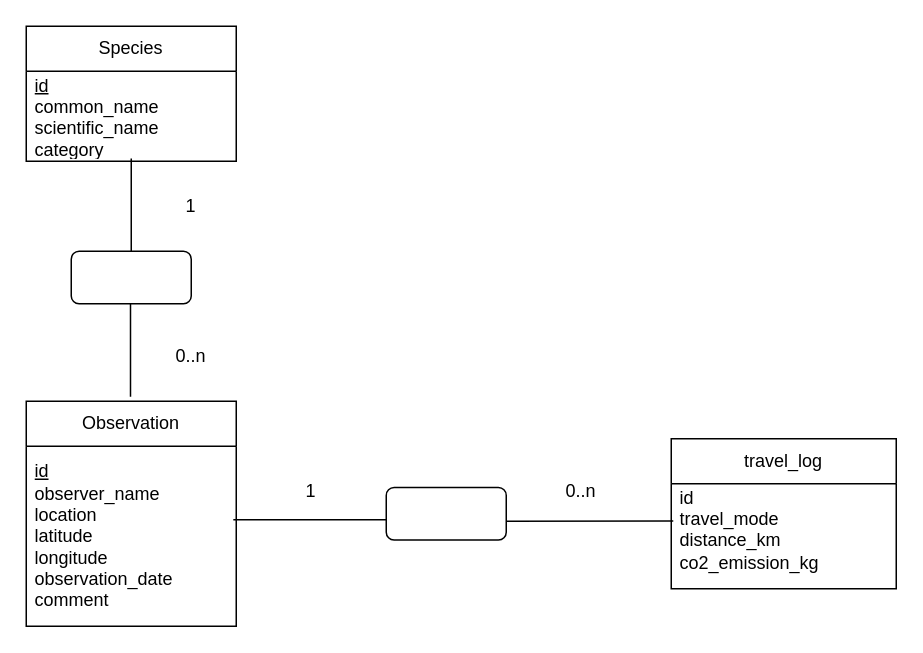
The diagram is 923 pixels wide and 653 high, and some of its shapes have lost their labels. Here are the shapes that lost their labels. From the top down, the centre of each, then its label:
the point at 130,277: Est observé dans
the point at 445,513: Est associé à
